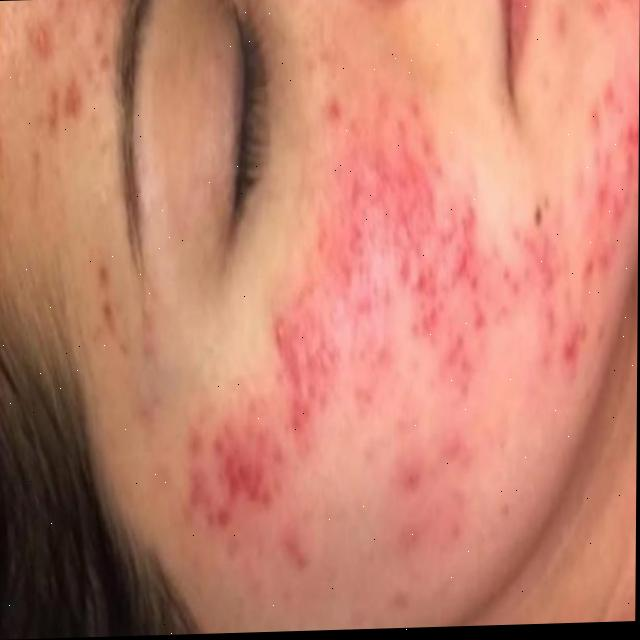Rosacea: (221, 114, 639, 525)
